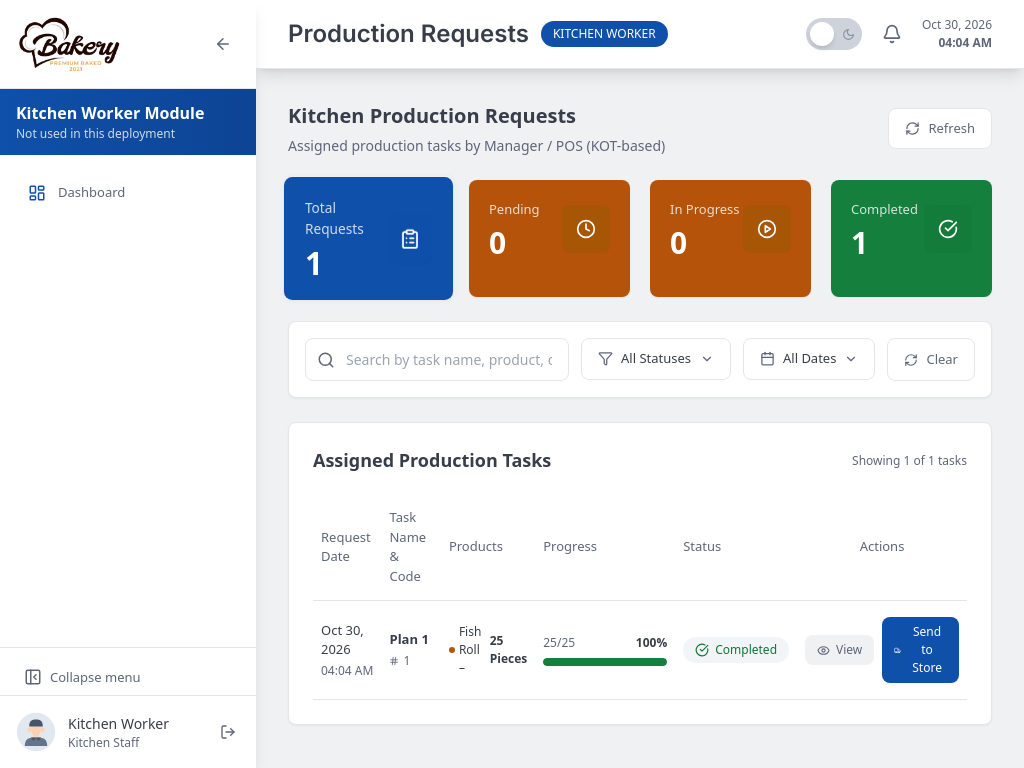
a finished kitchen task can be sent to the store, once
The width and height of the screenshot is (1024, 768).
Click the button "Send to Store" at point(921, 650), box [882,617,959,683]
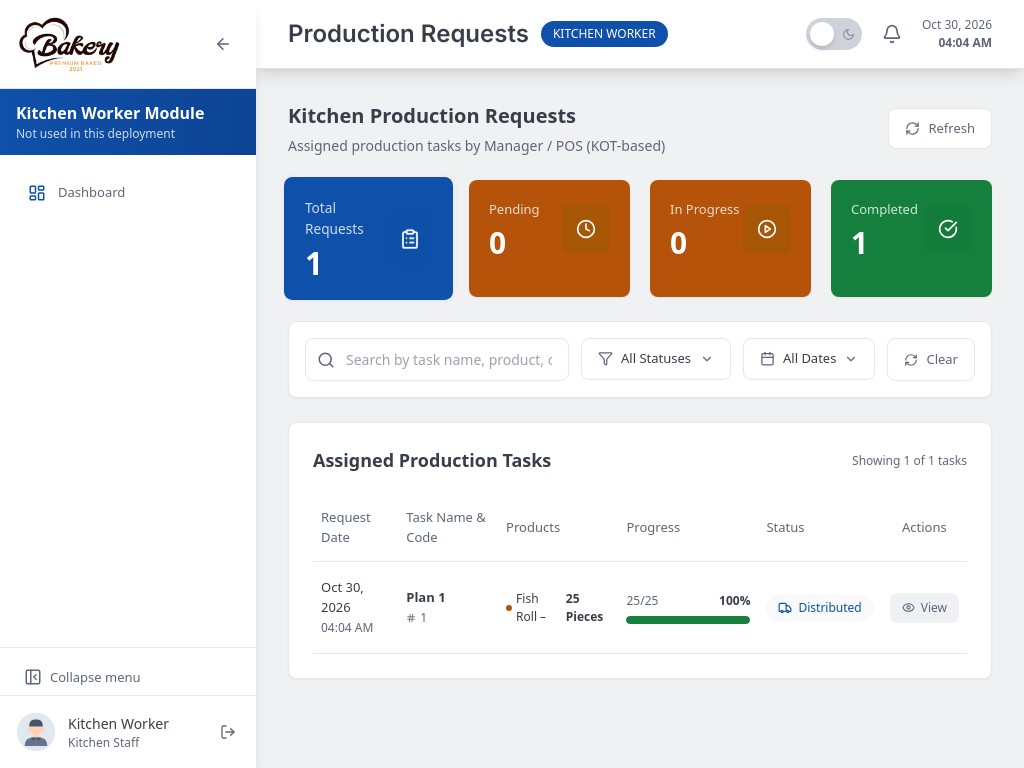
Now the text "Distributed" is shown, box [766,594,874,620]
